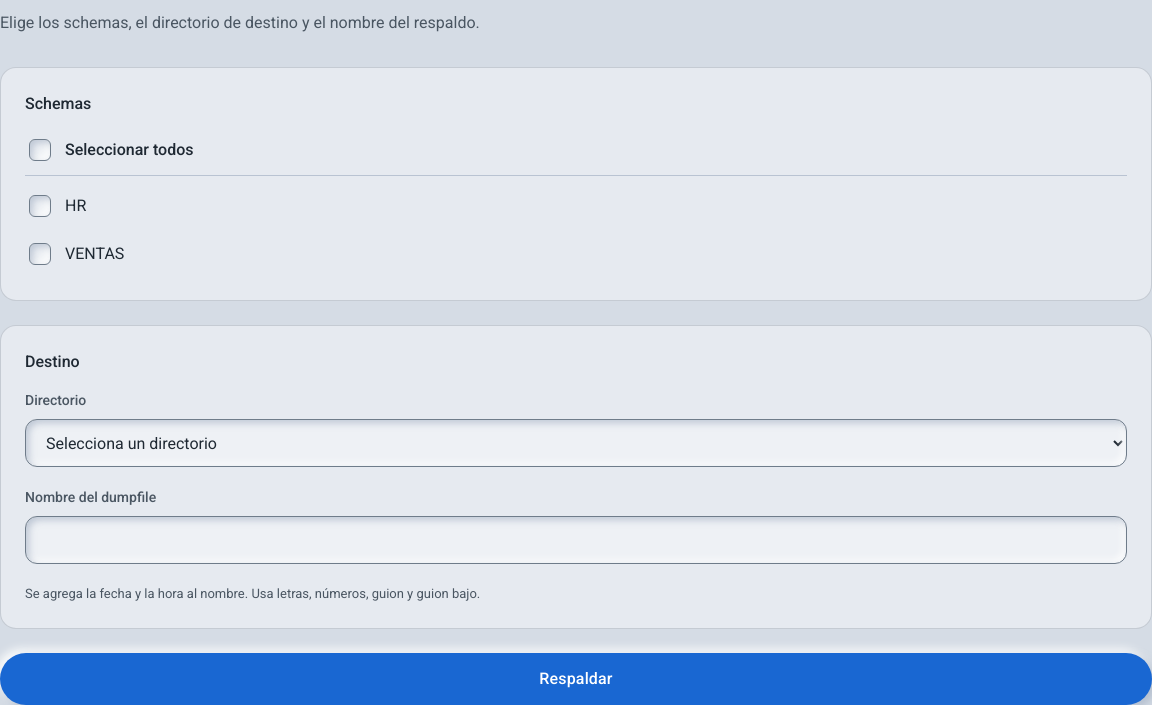
backend que no responde en la pantalla de schemas › si cae al respaldar muestra el aviso y no da por creado el respaldo
(page scrolled)
What coordinates should you click on to do the following:
click the button "Respaldar"
I would click on:
 (576, 678)
Its box is [0, 652, 1151, 704].
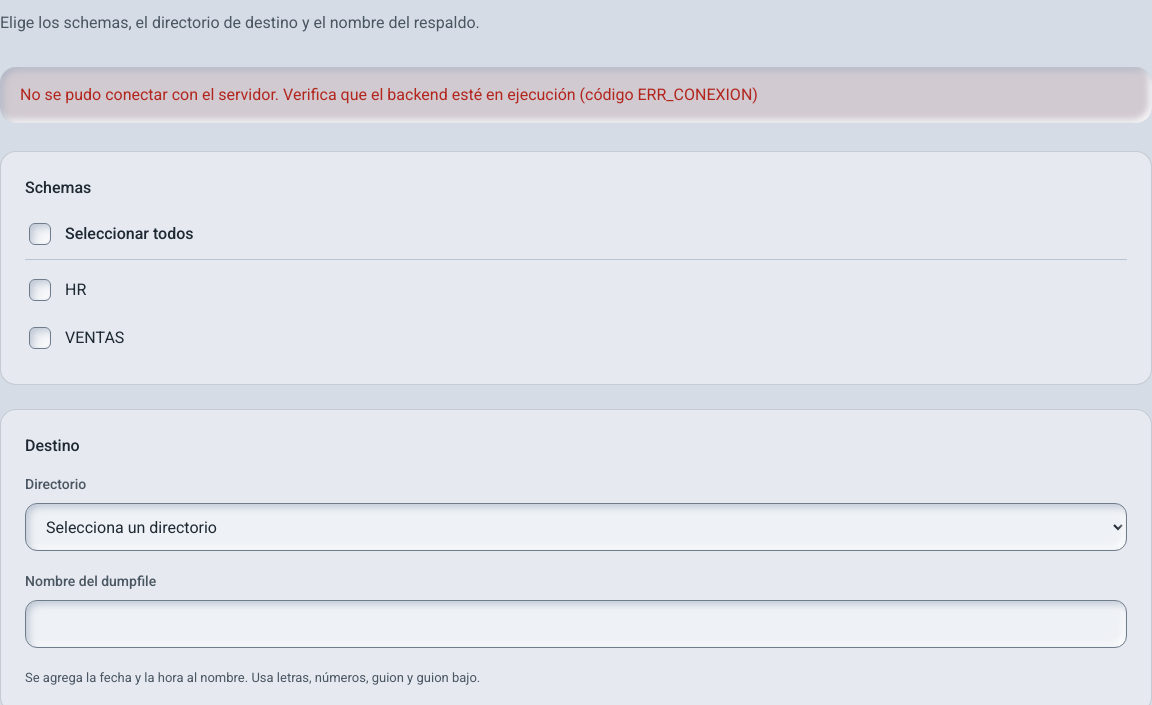
Expected: the message shows "No se pudo conectar con el servidor. Verifica que el backend esté en ejecución", [20, 85, 758, 104]
Expected: the message shows "ERR_CONEXION", [20, 85, 758, 104]
